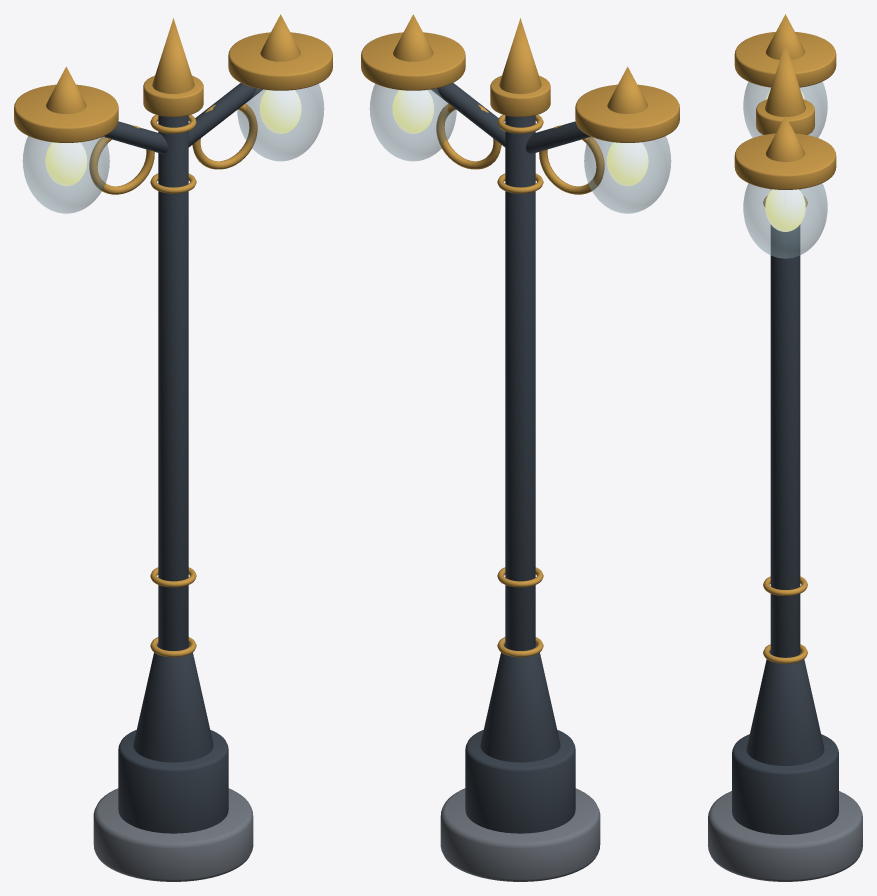
File: street_lamp.glb
3 views of the same model, side by side, from view 1: azimuth 30°, elevation 25°; view 2: azimuth 150°, elevation 25°; view 3: azimuth 270°, elevation 25° (orthographic). The views are drawn at different scales.
Parts seen in each view (by area): view 1: StreetLamp_MainPole, StreetLamp_StonePlinth, StreetLamp_IronBase, StreetLamp_BaseTaper, StreetLamp_LeftGlassGlobe, StreetLamp_RightGlassGlobe, StreetLamp_RightLanternCap, StreetLamp_LeftLanternCap, StreetLamp_TopSpear, StreetLamp_TopCrown, StreetLamp_RightLightCore, StreetLamp_LeftLightCore (+6 smaller); view 2: StreetLamp_MainPole, StreetLamp_StonePlinth, StreetLamp_IronBase, StreetLamp_BaseTaper, StreetLamp_LeftGlassGlobe, StreetLamp_RightGlassGlobe, StreetLamp_RightLanternCap, StreetLamp_LeftLanternCap, StreetLamp_TopSpear, StreetLamp_TopCrown, StreetLamp_RightLightCore, StreetLamp_LeftLightCore (+6 smaller); view 3: StreetLamp_MainPole, StreetLamp_StonePlinth, StreetLamp_IronBase, StreetLamp_BaseTaper, StreetLamp_RightGlassGlobe, StreetLamp_RightLanternCap, StreetLamp_LeftLanternCap, StreetLamp_TopSpear, StreetLamp_LeftGlassGlobe, StreetLamp_RightLightCore, StreetLamp_TopCrown, StreetLamp_RightFinial (+3 smaller).
Part boxes in pixels (x1=…): StreetLamp_MainPole: x1=158, y1=115, x2=188, y2=650; StreetLamp_StonePlinth: x1=93, y1=788, x2=253, y2=881; StreetLamp_IronBase: x1=118, y1=730, x2=228, y2=833; StreetLamp_BaseTaper: x1=133, y1=643, x2=213, y2=762; StreetLamp_LeftGlassGlobe: x1=22, y1=136, x2=109, y2=213; StreetLamp_RightGlassGlobe: x1=237, y1=84, x2=324, y2=161; StreetLamp_RightLanternCap: x1=228, y1=32, x2=332, y2=90; StreetLamp_LeftLanternCap: x1=14, y1=84, x2=118, y2=142; StreetLamp_TopSpear: x1=152, y1=18, x2=194, y2=93; StreetLamp_TopCrown: x1=143, y1=75, x2=203, y2=116; StreetLamp_RightLightCore: x1=259, y1=90, x2=301, y2=133; StreetLamp_LeftLightCore: x1=45, y1=142, x2=87, y2=186; StreetLamp_MainPole: x1=505, y1=115, x2=535, y2=650; StreetLamp_StonePlinth: x1=440, y1=788, x2=600, y2=881; StreetLamp_IronBase: x1=465, y1=730, x2=575, y2=833; StreetLamp_BaseTaper: x1=480, y1=643, x2=560, y2=762; StreetLamp_LeftGlassGlobe: x1=584, y1=136, x2=671, y2=213; StreetLamp_RightGlassGlobe: x1=369, y1=84, x2=456, y2=161; StreetLamp_RightLanternCap: x1=361, y1=32, x2=465, y2=90; StreetLamp_LeftLanternCap: x1=575, y1=84, x2=679, y2=142; StreetLamp_TopSpear: x1=499, y1=18, x2=541, y2=93; StreetLamp_TopCrown: x1=490, y1=75, x2=550, y2=116; StreetLamp_RightLightCore: x1=392, y1=90, x2=434, y2=133; StreetLamp_LeftLightCore: x1=606, y1=142, x2=648, y2=186; StreetLamp_MainPole: x1=770, y1=189, x2=800, y2=657; StreetLamp_StonePlinth: x1=708, y1=791, x2=862, y2=881; StreetLamp_IronBase: x1=732, y1=734, x2=838, y2=834; StreetLamp_BaseTaper: x1=746, y1=651, x2=824, y2=765; StreetLamp_RightGlassGlobe: x1=743, y1=183, x2=827, y2=258; StreetLamp_RightLanternCap: x1=734, y1=133, x2=836, y2=189; StreetLamp_LeftLanternCap: x1=734, y1=32, x2=836, y2=87; StreetLamp_TopSpear: x1=765, y1=43, x2=805, y2=116; StreetLamp_LeftGlassGlobe: x1=743, y1=82, x2=827, y2=137; StreetLamp_RightLightCore: x1=765, y1=189, x2=805, y2=231; StreetLamp_TopCrown: x1=756, y1=99, x2=814, y2=134; StreetLamp_RightFinial: x1=765, y1=116, x2=805, y2=161.
Size of the model in its own units: 1.28 by 3.34 by 0.58.
